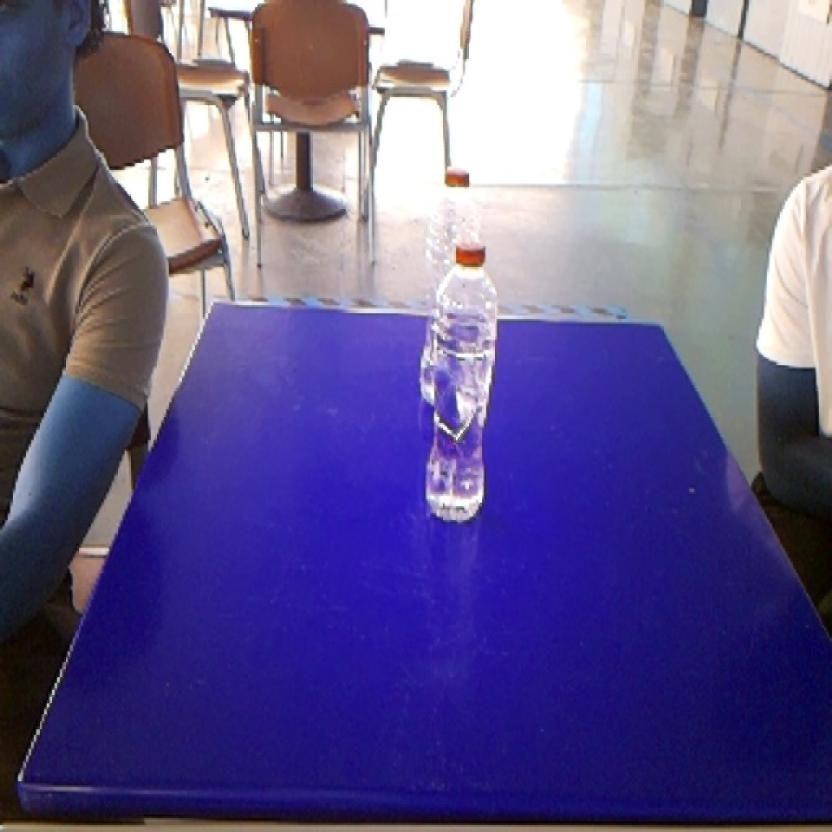no_label: (418, 238, 511, 534), (422, 150, 492, 245)
